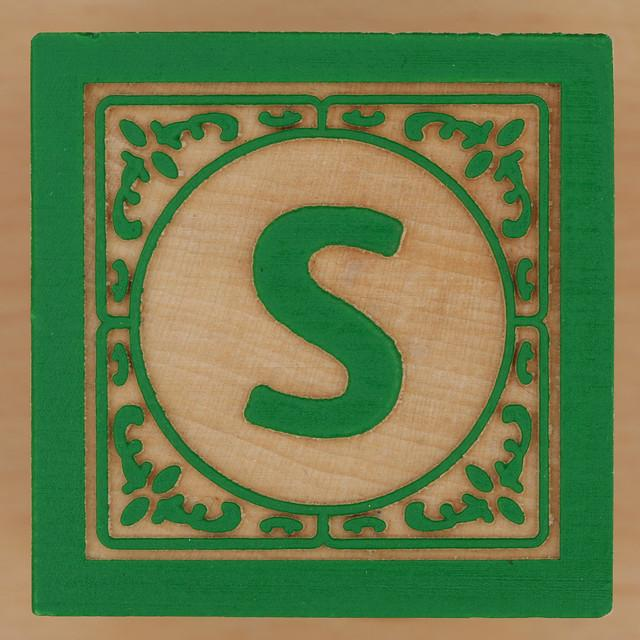S: (220, 178, 419, 470)
